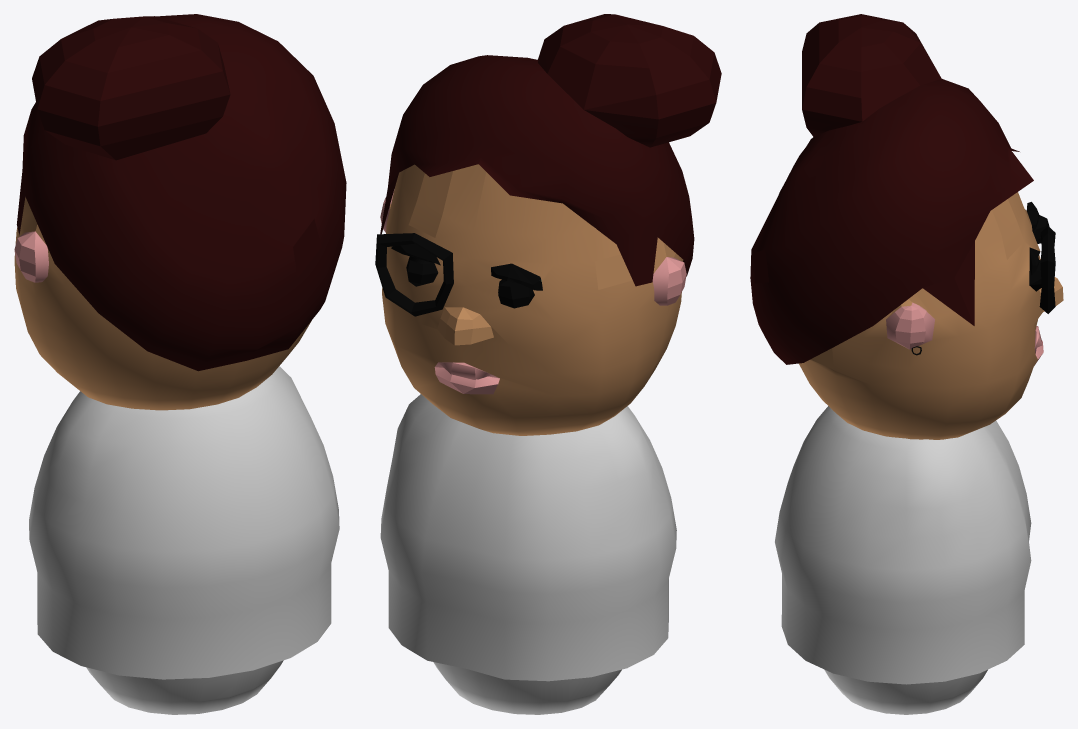
Rendered from Vidhi.fbx.
The picture shows the model from 3 angles, left to right: view 1: azimuth 30°, elevation 25°; view 2: azimuth 150°, elevation 25°; view 3: azimuth 270°, elevation 25°; orthographic projection. The views are drawn at different scales.
Parts seen in each view (by area): view 1: Vidhi2, Body4; view 2: Vidhi2, Body4; view 3: Vidhi2, Body4.
Part boxes in pixels (x1,y1,x2,y2): Vidhi2: (14,14,346,410); Body4: (29,366,339,714); Vidhi2: (375,14,721,435); Body4: (380,394,676,714); Vidhi2: (750,14,1063,439); Body4: (775,406,1031,714).
Size of the model in its own units: 1.79 by 3.69 by 1.68.
